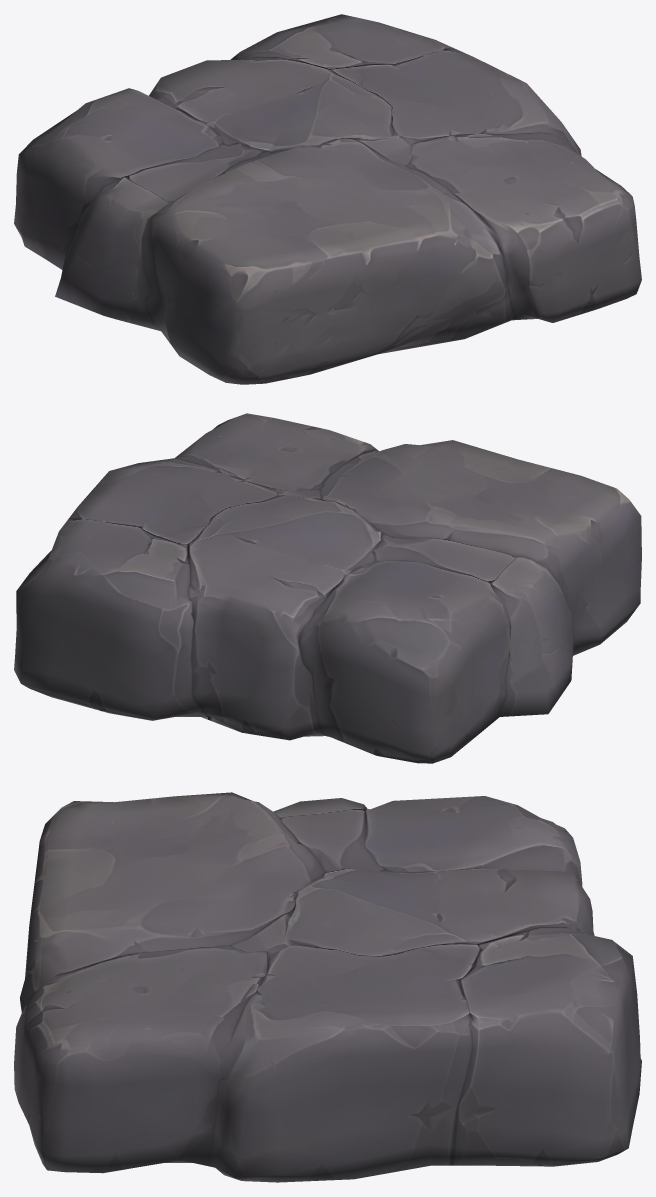
Rendered from stone_platform.glb.
The picture shows the model from 3 angles, top to bottom: view 1: azimuth 30°, elevation 25°; view 2: azimuth 150°, elevation 25°; view 3: azimuth 270°, elevation 25°; orthographic projection. The views are drawn at different scales.
Visible parts, largest first — view 1: tripo_node_11c942de; view 2: tripo_node_11c942de; view 3: tripo_node_11c942de.
Part boxes in pixels (x1=…): tripo_node_11c942de: x1=14, y1=14, x2=641, y2=384; tripo_node_11c942de: x1=14, y1=413, x2=641, y2=763; tripo_node_11c942de: x1=14, y1=792, x2=641, y2=1182.
Bounding box in the file's own units: 3.34 × 0.9 × 3.17.
Materials: 1 (1 with a texture image).
